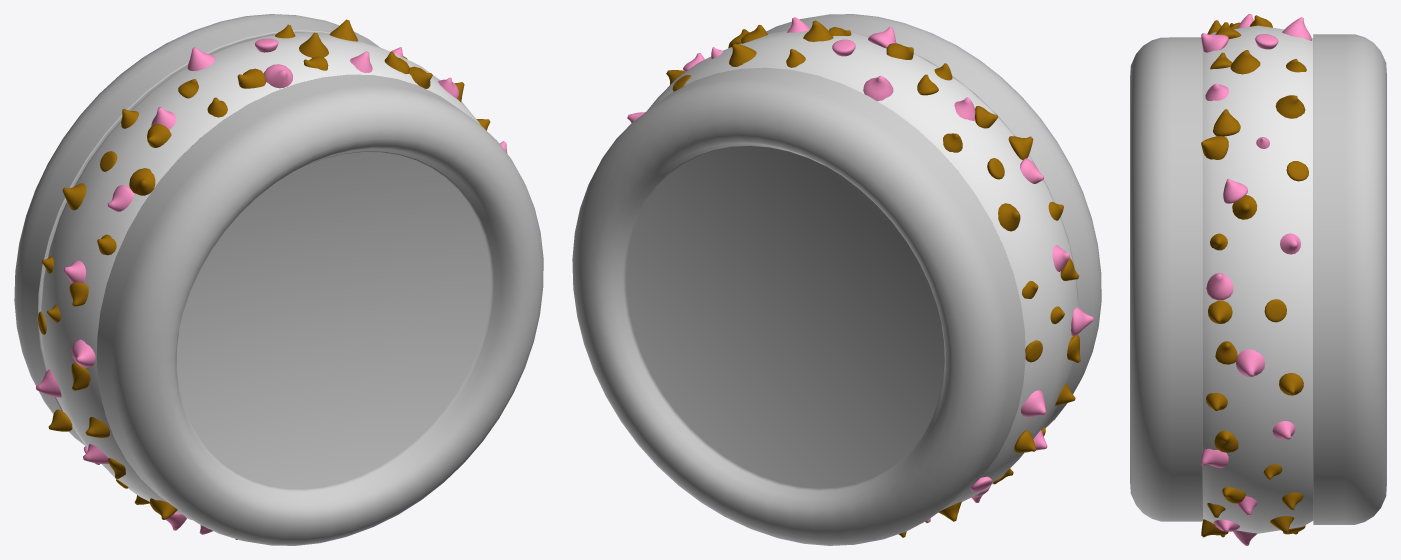
Rendered from Galleta--Premio01.fbx.
3 views of the same model, side by side, from view 1: azimuth 30°, elevation 25°; view 2: azimuth 150°, elevation 25°; view 3: azimuth 270°, elevation 25° (orthographic).
Visible parts, largest first — view 1: Rosca.002; view 2: Rosca.002; view 3: Rosca.002.
Part boxes in pixels (box(x1,y1,x2,y2)): Rosca.002: box(14, 14, 543, 545); Rosca.002: box(572, 14, 1101, 545); Rosca.002: box(1130, 14, 1386, 545).
Size of the model in its own units: 281 by 281 by 136.
